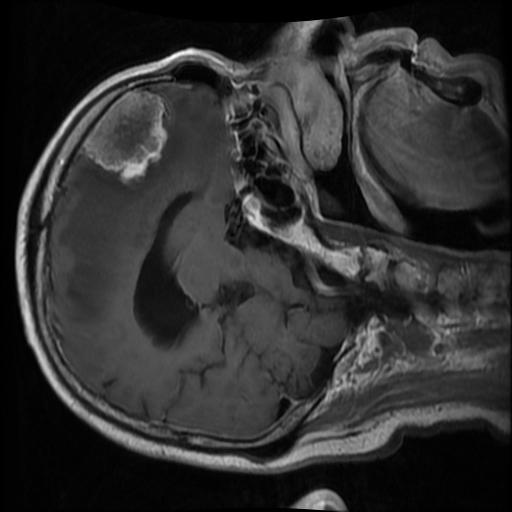meningioma: (83, 90, 168, 182)
